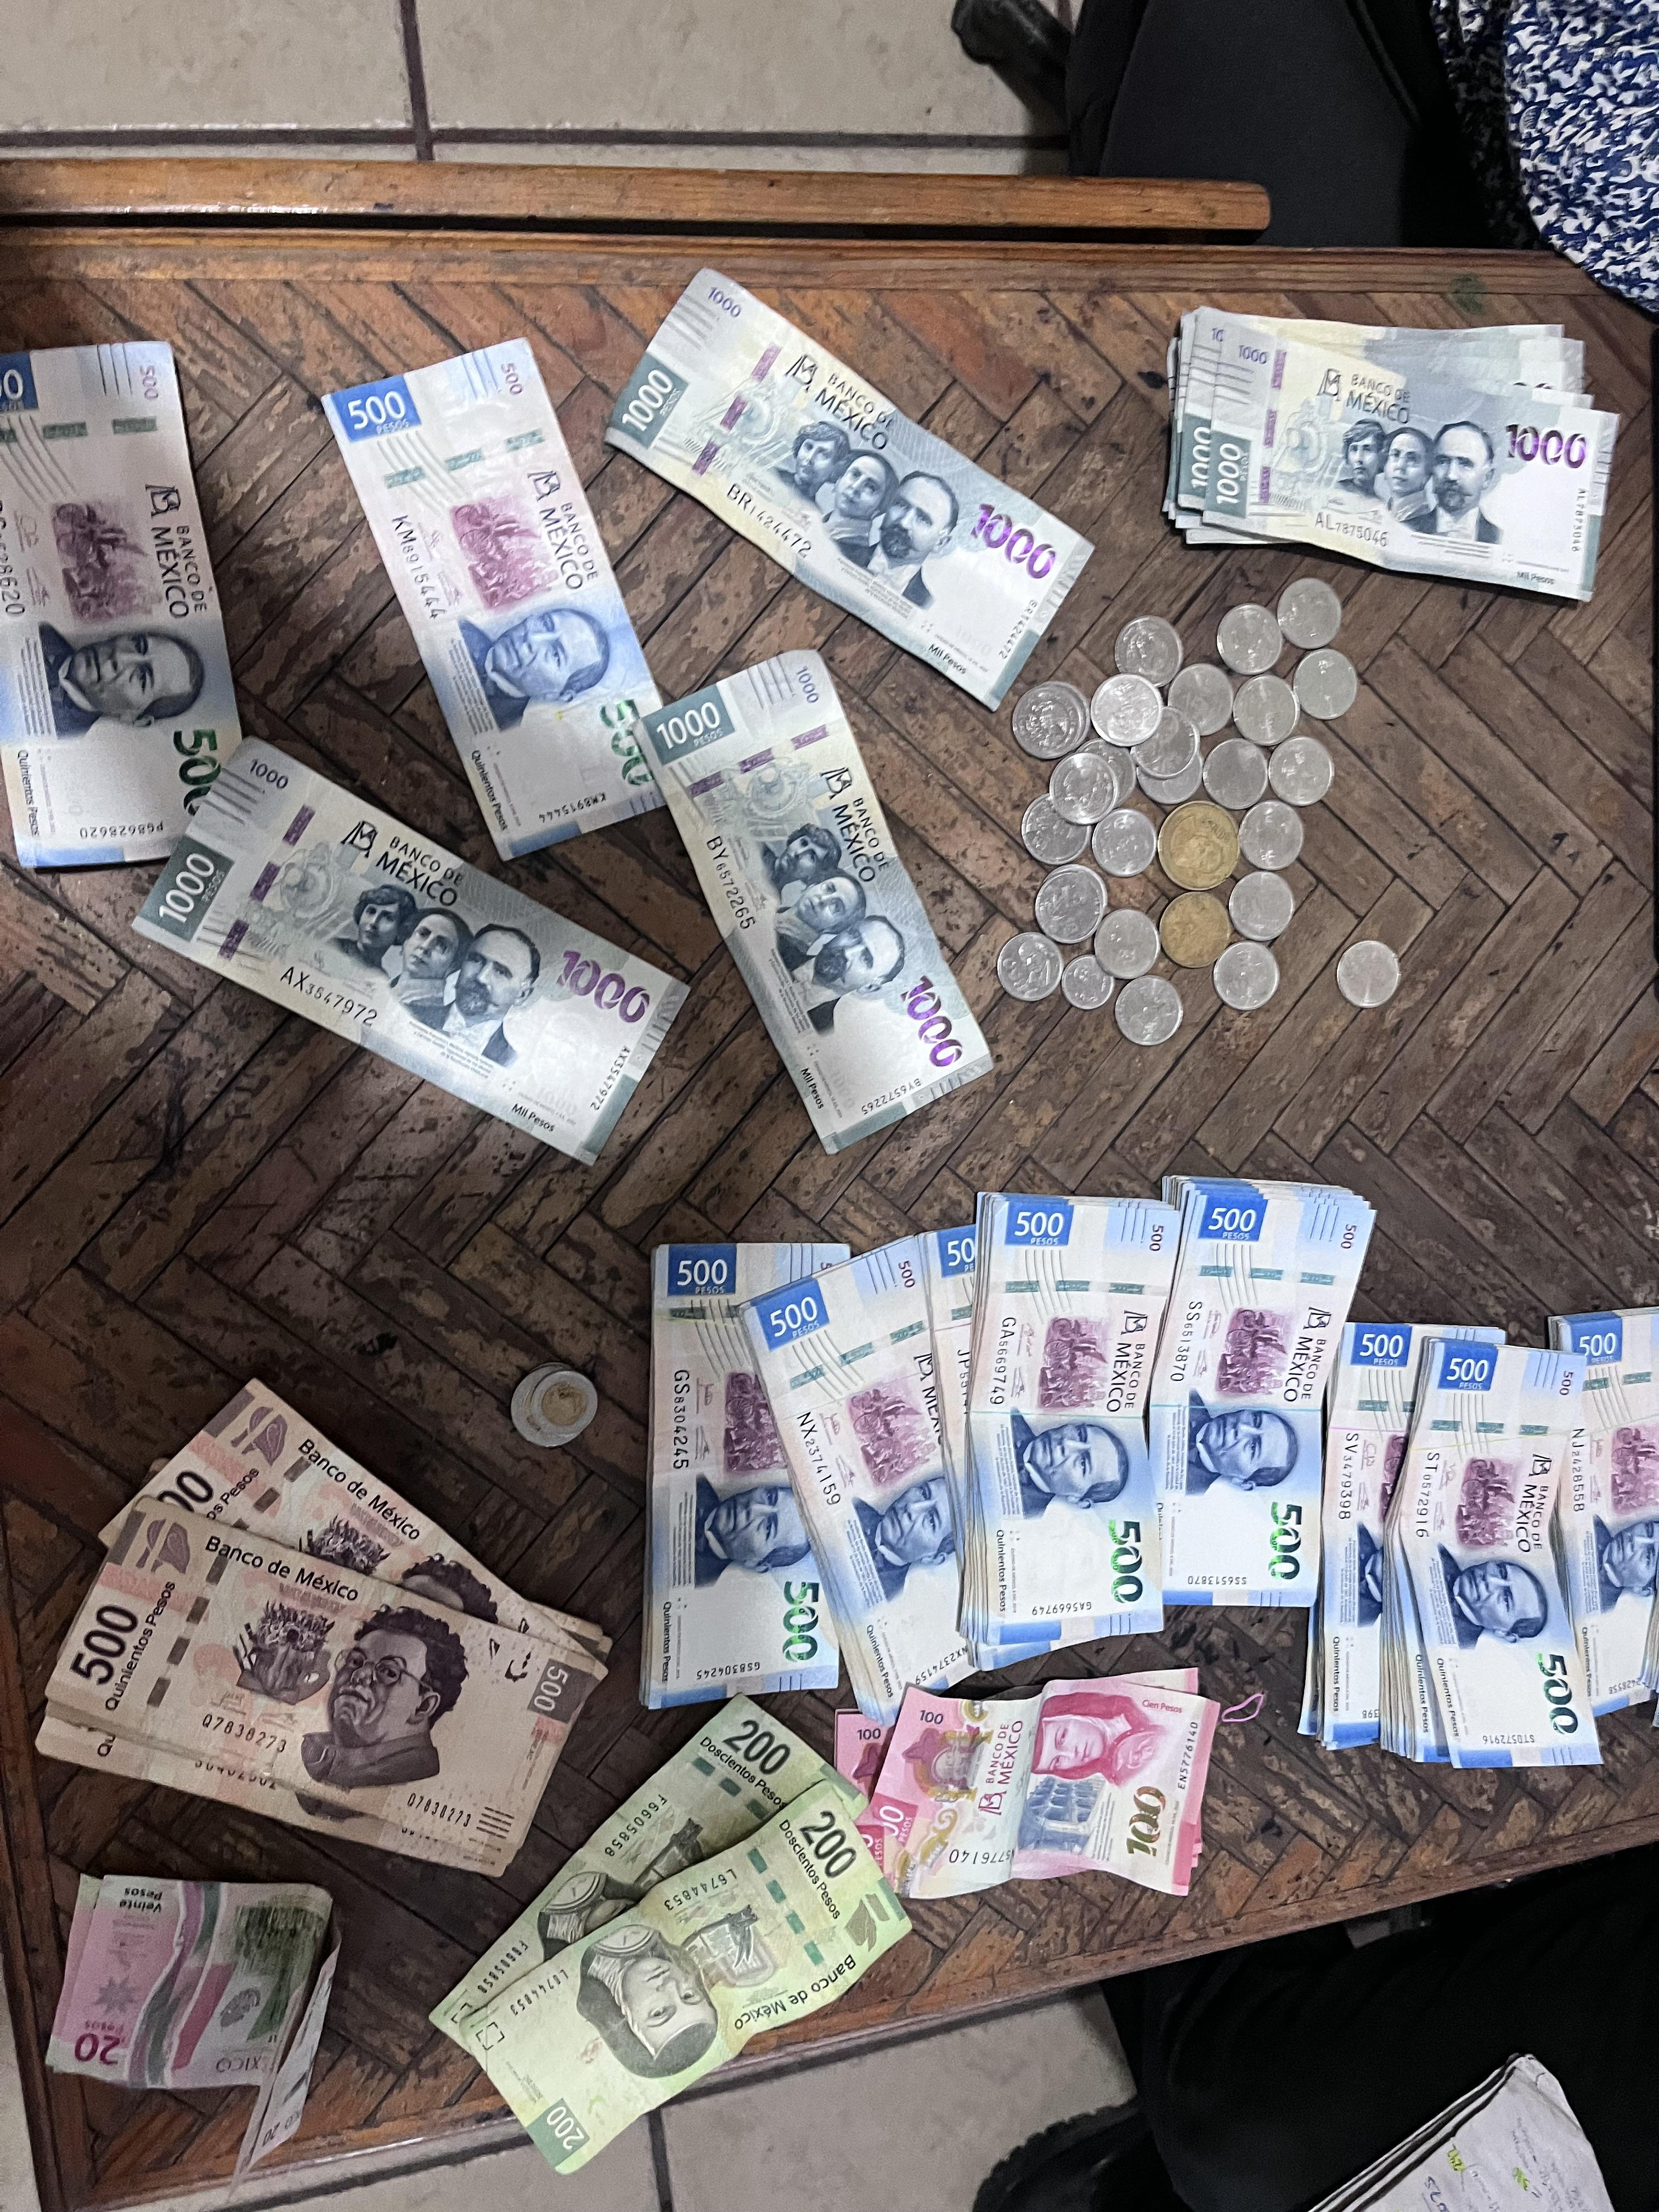100: (836, 1658, 1209, 1939)
1000: (127, 733, 704, 1176), (587, 258, 1105, 723), (633, 646, 1014, 1167), (1176, 317, 1617, 611)
20: (56, 1865, 361, 2200)
200: (427, 1698, 929, 2198)
500: (37, 1503, 598, 1864)
500 nuevo: (308, 324, 697, 867), (0, 338, 272, 866), (741, 1226, 986, 1721), (640, 1242, 854, 1726), (967, 1193, 1180, 1648), (1159, 1176, 1373, 1606), (1396, 1346, 1601, 1768), (1324, 1332, 1504, 1759), (1563, 1308, 1659, 1717)
